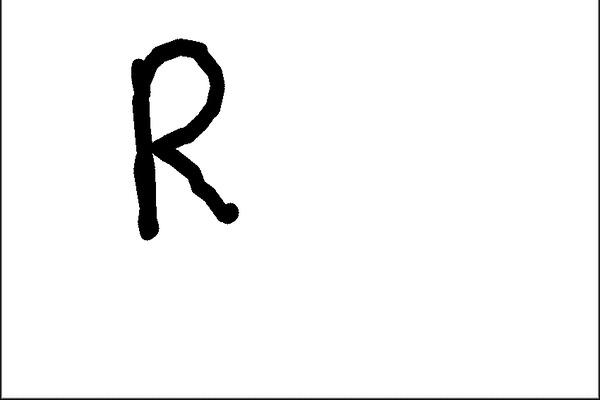R: (122, 35, 253, 243)
